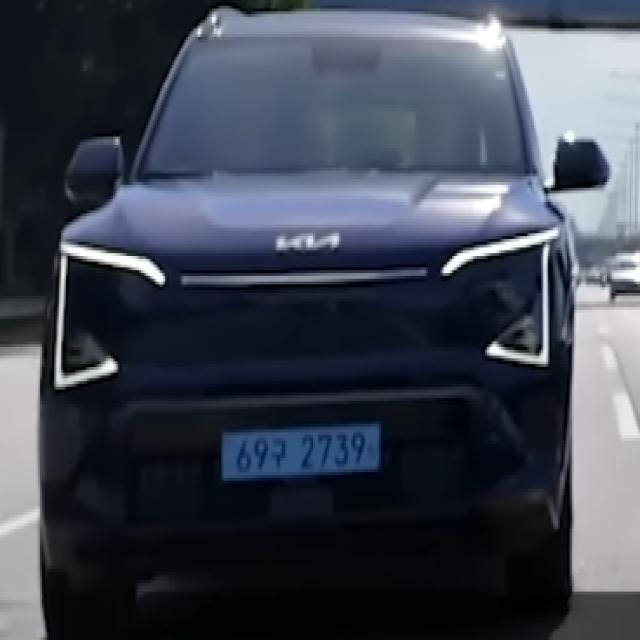car: (192, 403, 413, 517)
carev: (366, 419, 385, 476), (220, 428, 238, 484)
